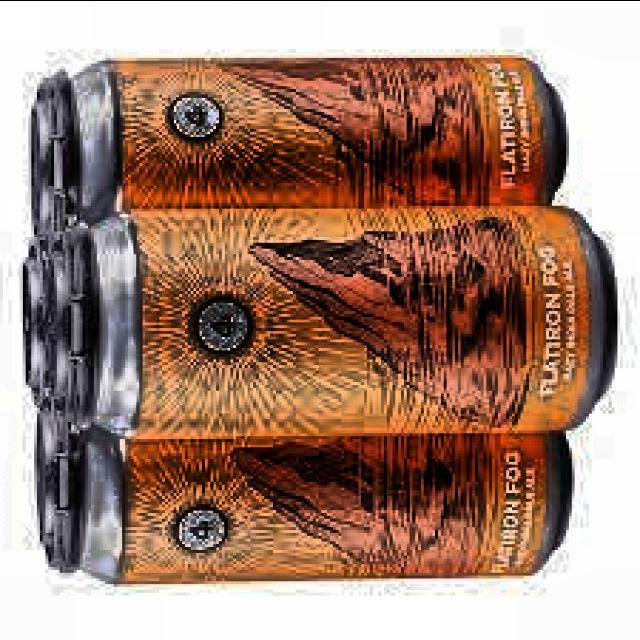Aluminum Can: (42, 194, 627, 448), (21, 394, 584, 590), (19, 52, 592, 239), (15, 225, 62, 418)
